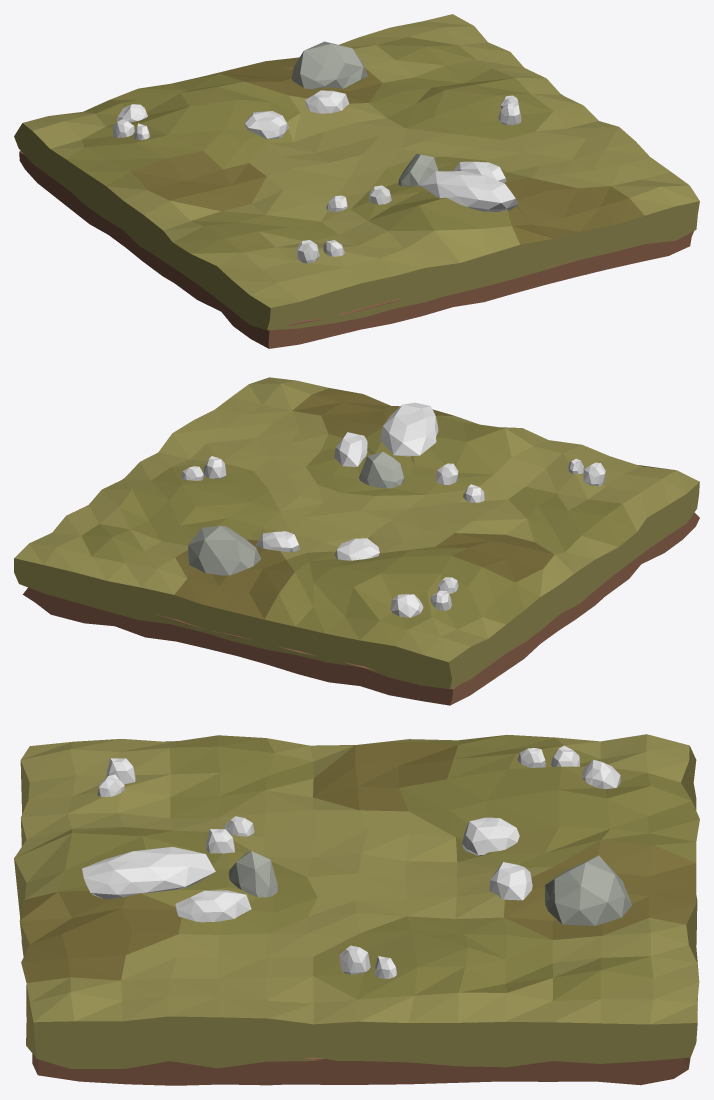
3 renders of one model, top to bottom at view 1: azimuth 30°, elevation 25°; view 2: azimuth 150°, elevation 25°; view 3: azimuth 270°, elevation 25°, orthographic. The views are drawn at different scales.
Visible parts, largest first — view 1: grass.002, ground.002, Icosphere.008, stone.002, stone.005, Icosphere.015, stone.003, stone.004; view 2: grass.002, ground.002, Icosphere.008, stone.002, Icosphere.015, stone.004, stone.005, stone.003, stone.012; view 3: grass.002, ground.002, stone.002, Icosphere.008, stone.004, stone.005, Icosphere.015, stone.003, stone.012, stone.006, stone.010, stone.009.
Part boxes in pixels (x1,y1,x2,y2): grass.002: (14, 14, 699, 330); ground.002: (19, 151, 693, 348); Icosphere.008: (291, 41, 367, 89); stone.002: (420, 171, 518, 211); stone.005: (244, 111, 289, 139); Icosphere.015: (398, 154, 438, 186); stone.003: (305, 90, 349, 113); stone.004: (453, 161, 506, 182); grass.002: (14, 377, 699, 689); ground.002: (23, 512, 699, 705); Icosphere.008: (187, 526, 260, 575); stone.002: (380, 402, 438, 456); Icosphere.015: (359, 451, 404, 488); stone.004: (334, 432, 367, 466); stone.005: (334, 538, 379, 560); stone.003: (255, 531, 299, 552); stone.012: (390, 594, 423, 617); grass.002: (14, 734, 699, 1068); ground.002: (32, 797, 692, 1085); stone.002: (82, 847, 215, 899); Icosphere.008: (545, 855, 631, 925); stone.004: (175, 890, 251, 922); stone.005: (462, 817, 519, 855); Icosphere.015: (228, 851, 278, 897); stone.003: (489, 862, 532, 900); stone.012: (581, 759, 620, 788); stone.006: (339, 945, 370, 974); stone.010: (205, 829, 234, 853); stone.009: (106, 758, 135, 784).
Size of the model in its own units: 1018 by 203 by 1024.
